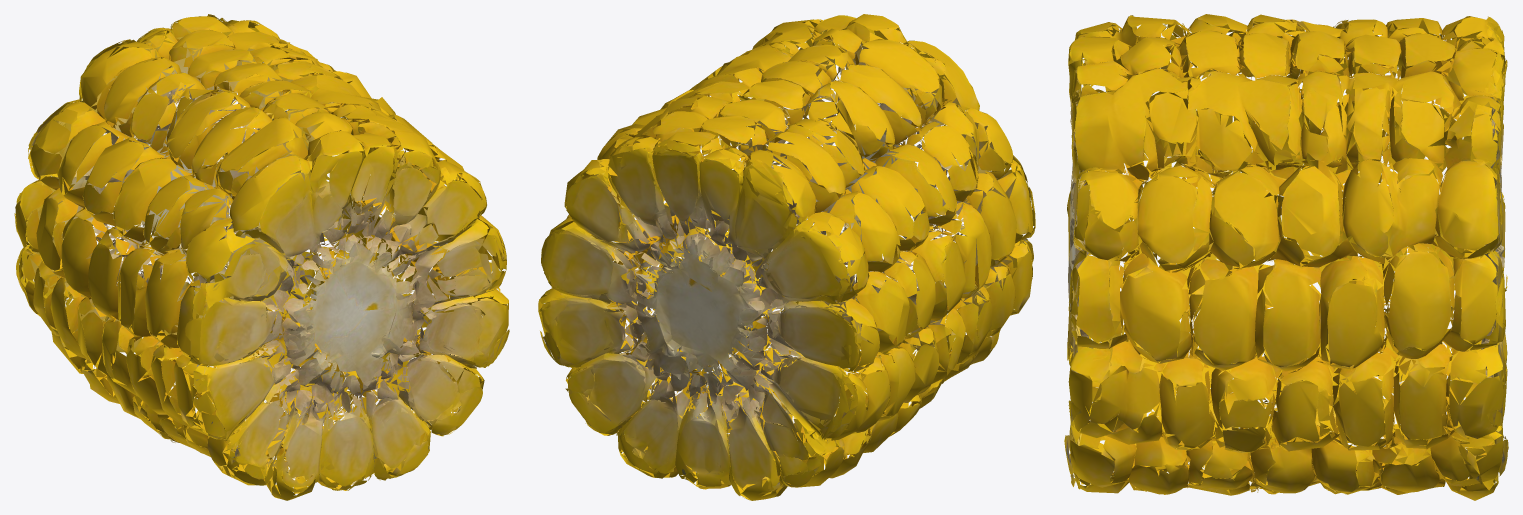
The model's file is corn_round.glb.
3 views of the same model, side by side, from view 1: azimuth 30°, elevation 25°; view 2: azimuth 150°, elevation 25°; view 3: azimuth 270°, elevation 25° (orthographic). The views are drawn at different scales.
Visible parts, largest first — view 1: corn_round; view 2: corn_round; view 3: corn_round.
Part boxes in pixels (x1,y1,x2,y2): corn_round: [14, 14, 509, 500]; corn_round: [538, 14, 1035, 500]; corn_round: [1064, 14, 1508, 500].
Bounding box in the file's own units: 0.9696 × 1 × 0.9325.
Materials: 1 (1 with a texture image).
